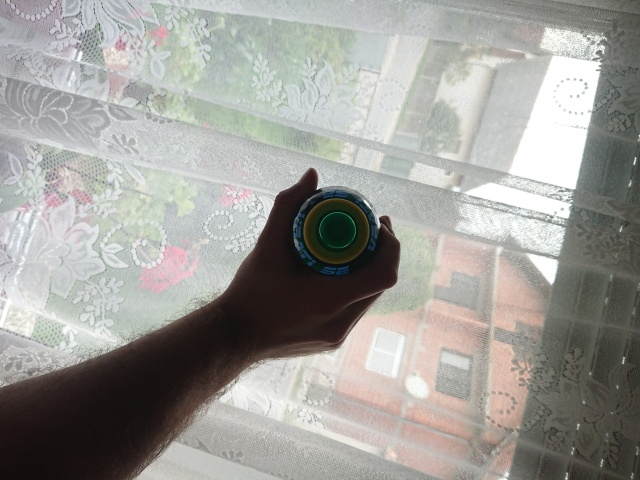Vindi Iso Sport Forest Strawberries 500mL: (291, 184, 382, 279)
